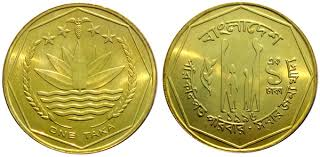1_takar_coin: (2, 4, 158, 155), (163, 5, 318, 151)
